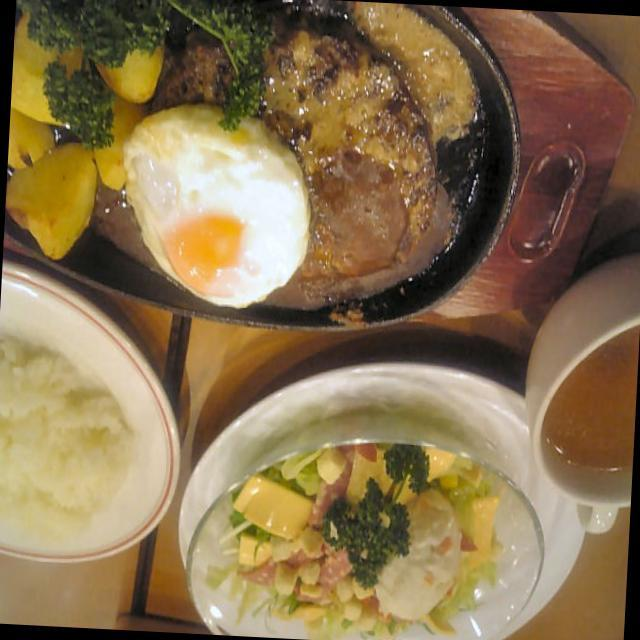Egg: (126, 107, 312, 316)
Rice: (0, 337, 142, 562)
